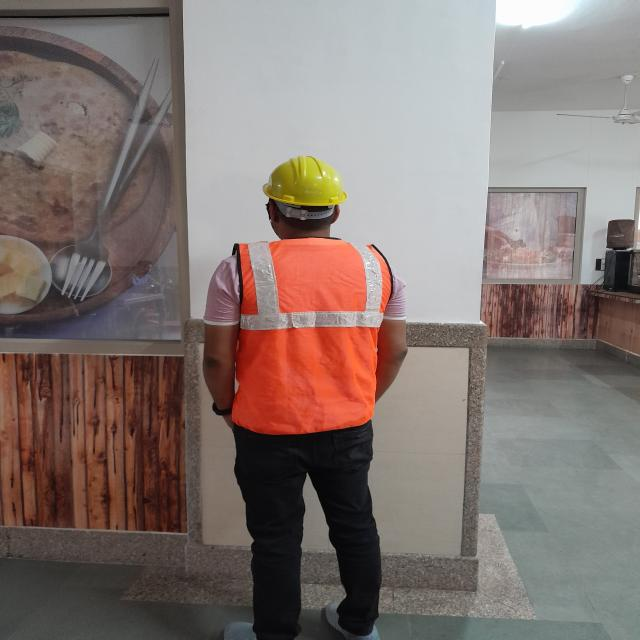safe: (205, 156, 406, 640)
